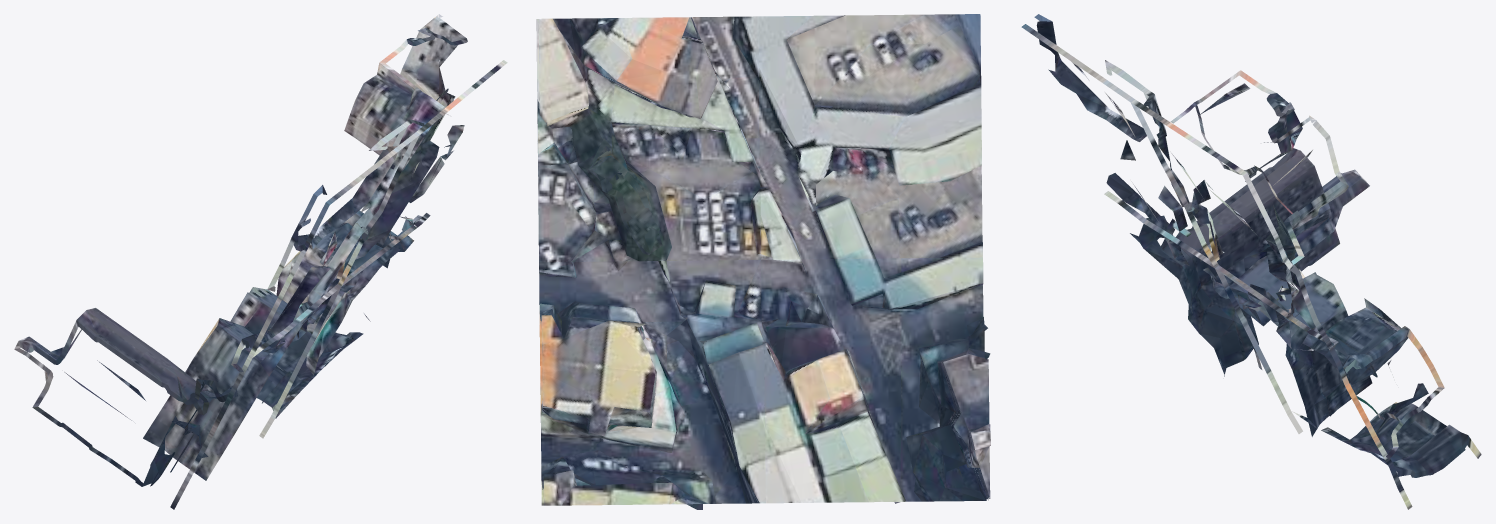
3 renders of one model, left to right at view 1: azimuth 30°, elevation 25°; view 2: azimuth 150°, elevation 25°; view 3: azimuth 270°, elevation 25°, orthographic. The views are drawn at different scales.
Size of the model in its own units: 93.21 by 75.89 by 76.31.
Materials: 1 (1 with a texture image).
